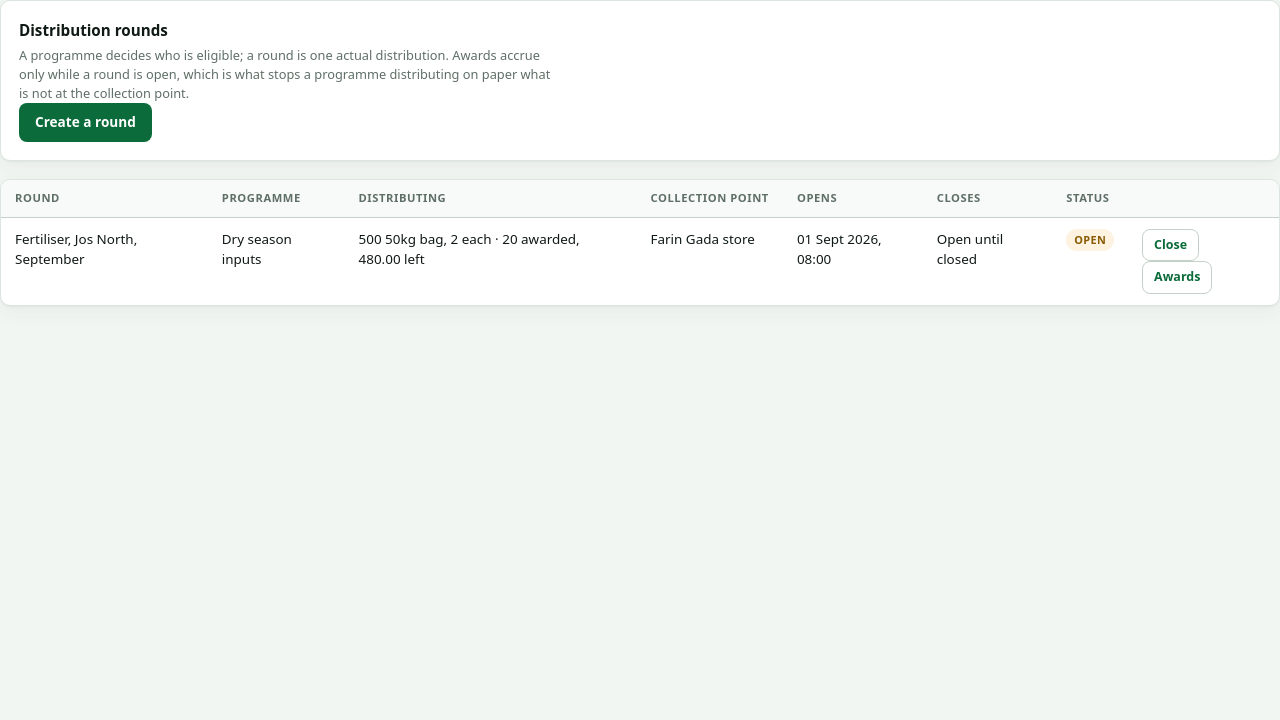
the programme list › still says so when there genuinely is no programme
Click the button "Create a round" at [85, 123], box [19,103,152,142]
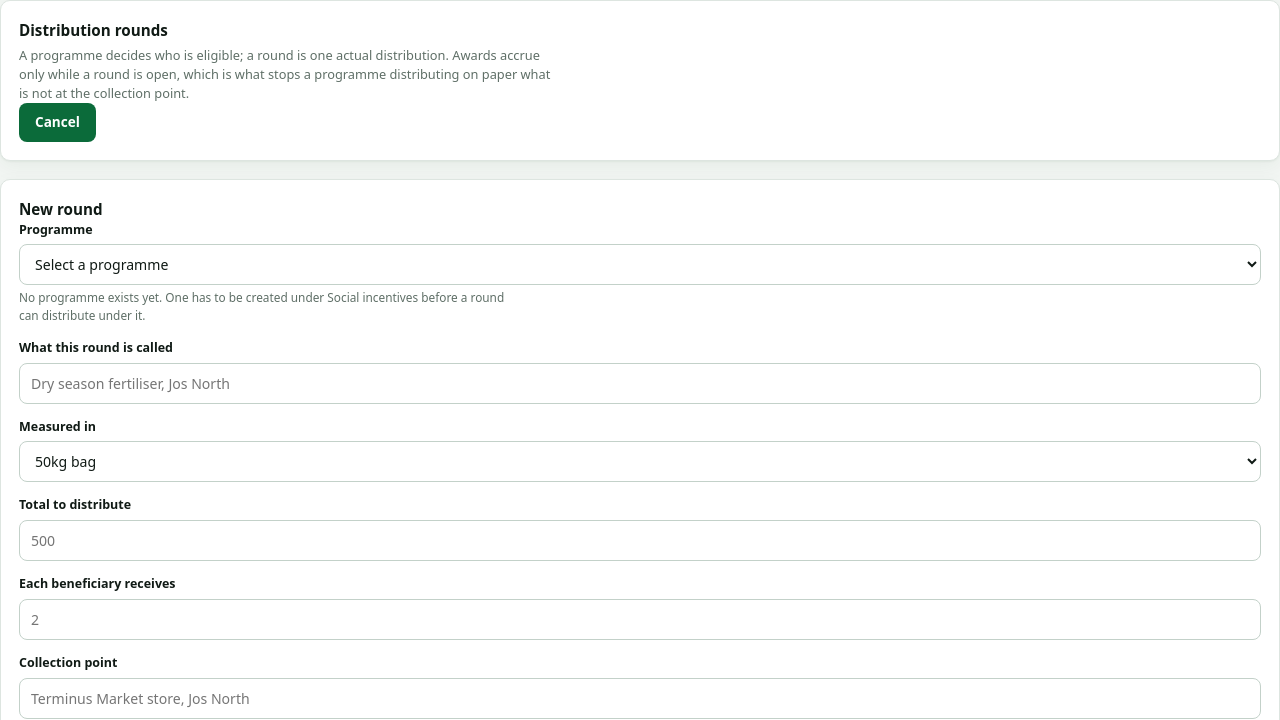
Expected: the text "No programme exists yet" is shown, [19,289,504,323]
